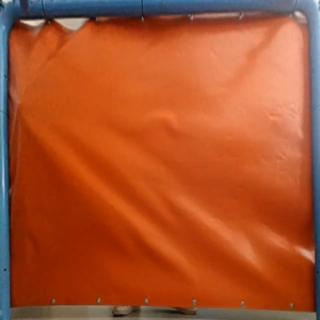Hit-hRxx: (12, 97, 26, 112)
